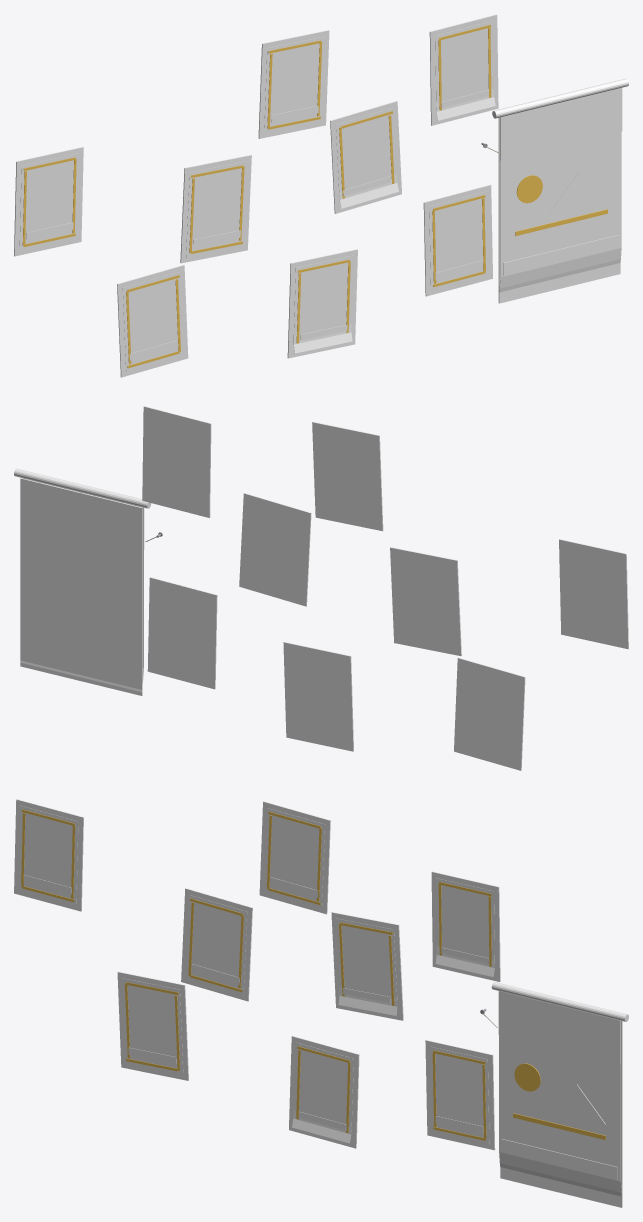
File: wall.glb
3 views of the same model, one above another, from view 1: azimuth 30°, elevation 25°; view 2: azimuth 150°, elevation 25°; view 3: azimuth 330°, elevation 25° (orthographic).
Parts seen in each view (by area): view 1: prop_calendar_page, prop_calendar_zone_top, prop_award_02_paper, prop_award_05_paper, prop_award_07_paper, prop_award_04_paper, prop_award_03_paper, prop_award_01_paper, prop_award_08_paper, prop_award_06_paper, prop_calendar_backplate, prop_award_03_frame (+11 smaller); view 2: prop_calendar_backplate, prop_award_07_frame, prop_award_08_frame, prop_award_05_frame, prop_award_02_frame, prop_award_04_frame, prop_award_01_frame, prop_award_06_frame, prop_award_03_frame, prop_calendar_rod, prop_calendar_page; view 3: prop_calendar_page, prop_calendar_zone_top, prop_award_02_paper, prop_award_07_paper, prop_award_05_paper, prop_award_01_paper, prop_award_08_paper, prop_award_06_paper, prop_award_04_paper, prop_award_03_paper, prop_calendar_backplate, prop_award_01_frame (+11 smaller).
Part boxes in pixels (left/top/right/bottom): prop_calendar_page: left=499, top=117, right=621, bottom=292; prop_calendar_zone_top: left=500, top=87, right=622, bottom=160; prop_award_02_paper: left=293, top=255, right=353, bottom=353; prop_award_05_paper: left=336, top=107, right=398, bottom=208; prop_award_07_paper: left=435, top=21, right=495, bottom=120; prop_award_04_paper: left=186, top=161, right=247, bottom=257; prop_award_03_paper: left=429, top=191, right=488, bottom=290; prop_award_01_paper: left=122, top=271, right=183, bottom=371; prop_award_08_paper: left=264, top=36, right=324, bottom=133; prop_award_06_paper: left=19, top=153, right=79, bottom=250; prop_calendar_backplate: left=498, top=117, right=620, bottom=303; prop_award_03_frame: left=423, top=184, right=492, bottom=296; prop_calendar_backplate: left=20, top=478, right=142, bottom=695; prop_award_07_frame: left=142, top=406, right=211, bottom=517; prop_award_08_frame: left=312, top=422, right=383, bottom=531; prop_award_05_frame: left=239, top=493, right=311, bottom=606; prop_award_02_frame: left=283, top=642, right=353, bottom=751; prop_award_04_frame: left=390, top=547, right=461, bottom=655; prop_award_01_frame: left=454, top=657, right=525, bottom=770; prop_award_06_frame: left=559, top=539, right=628, bottom=649; prop_award_03_frame: left=147, top=577, right=217, bottom=689; prop_calendar_rod: left=14, top=468, right=151, bottom=508; prop_calendar_page: left=20, top=478, right=143, bottom=692; prop_calendar_page: left=499, top=1021, right=622, bottom=1202; prop_calendar_zone_top: left=498, top=991, right=620, bottom=1064; prop_award_02_paper: left=292, top=1042, right=353, bottom=1143; prop_award_07_paper: left=435, top=878, right=494, bottom=976; prop_award_05_paper: left=336, top=918, right=397, bottom=1015; prop_award_01_paper: left=122, top=978, right=183, bottom=1075; prop_award_08_paper: left=264, top=808, right=325, bottom=908; prop_award_06_paper: left=18, top=805, right=78, bottom=905; prop_award_04_paper: left=185, top=895, right=247, bottom=995; prop_award_03_paper: left=430, top=1046, right=489, bottom=1144; prop_calendar_backplate: left=500, top=1021, right=622, bottom=1207; prop_award_01_frame: left=117, top=971, right=188, bottom=1080.
Size of the model in its own units: 2.12 by 1.07 by 0.024.
